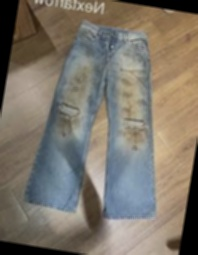earth: (116, 76, 144, 119), (71, 71, 88, 103), (121, 128, 146, 145), (59, 115, 79, 131)
